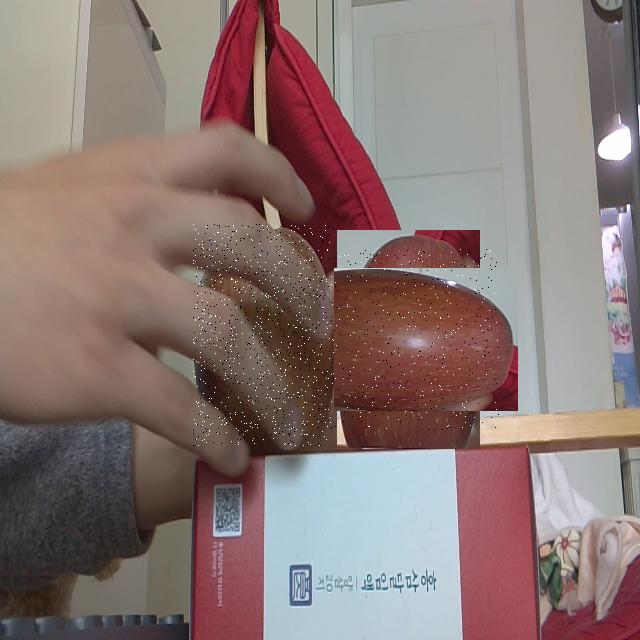apple: (318, 249, 499, 430), (193, 224, 334, 446)
